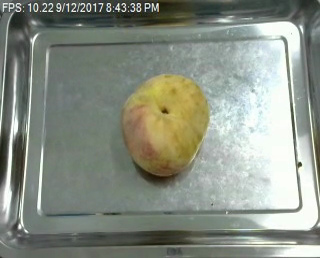Peach: (121, 73, 208, 175)
